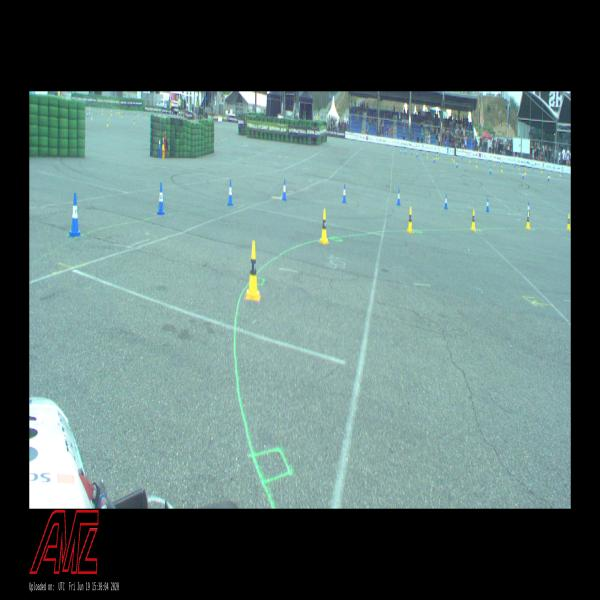blue_cone: (69, 194, 81, 236), (157, 182, 165, 214), (228, 180, 234, 205), (282, 179, 287, 201), (342, 183, 347, 203), (397, 188, 401, 205), (444, 194, 448, 209), (526, 202, 530, 215), (486, 198, 489, 212), (456, 160, 458, 168), (433, 156, 435, 163), (522, 172, 524, 179), (416, 151, 418, 157), (490, 166, 491, 174)
yellow_cone: (246, 241, 260, 300), (320, 208, 329, 244), (407, 208, 414, 234), (470, 209, 476, 230), (526, 211, 530, 230), (566, 213, 570, 229), (133, 117, 136, 124), (501, 165, 503, 172), (453, 155, 455, 162), (437, 153, 439, 160), (107, 119, 109, 126), (524, 168, 526, 175), (476, 160, 477, 168), (91, 113, 92, 119)
